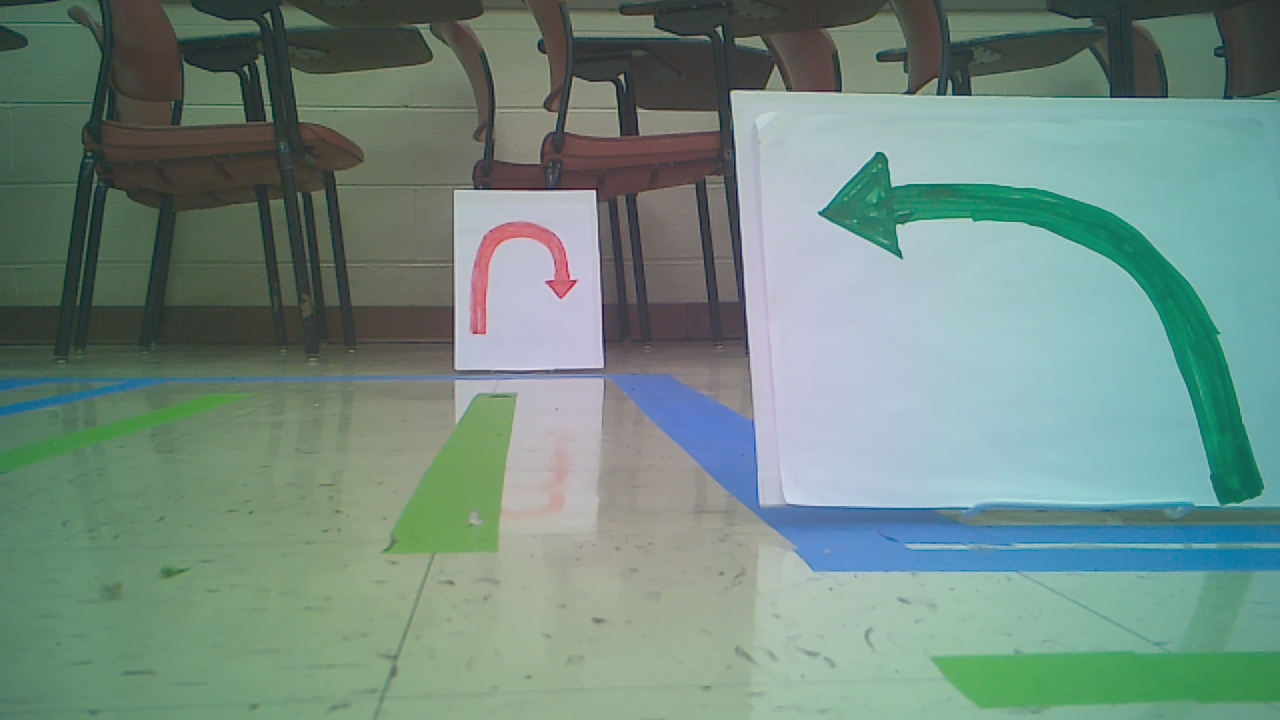greenline: (6, 387, 250, 484), (384, 393, 521, 549), (941, 652, 1280, 694)
left: (814, 152, 1263, 506)
uturn: (463, 216, 585, 336)
